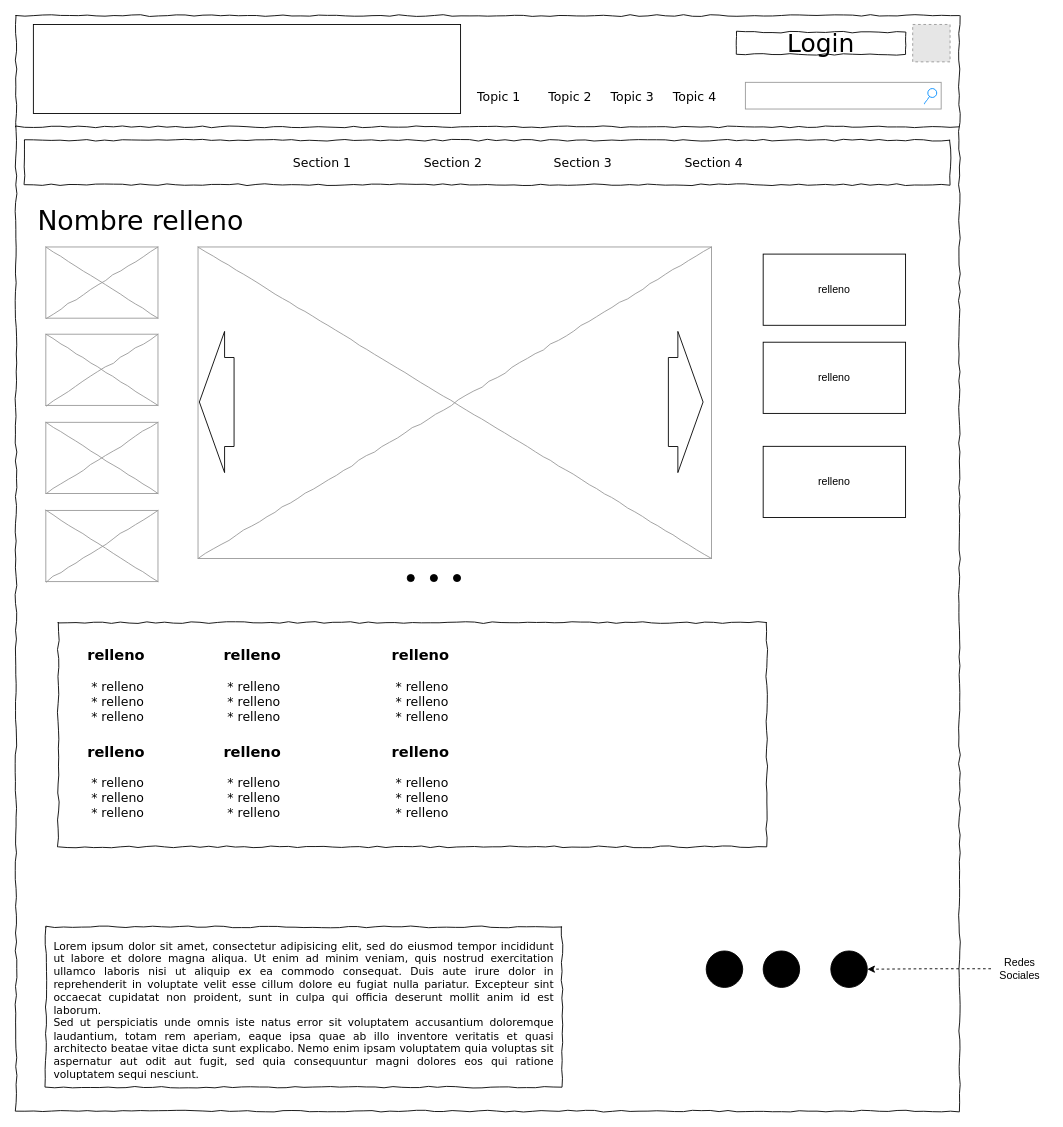
This 1063x1127 diagram has some shape labels left out. Grey dashed boxes stand in for pictures. Here are the shapes that lost their labels. From the top down, the box of each, then its label:
(32, 24, 461, 113): LOGO
(744, 81, 941, 109): Search
